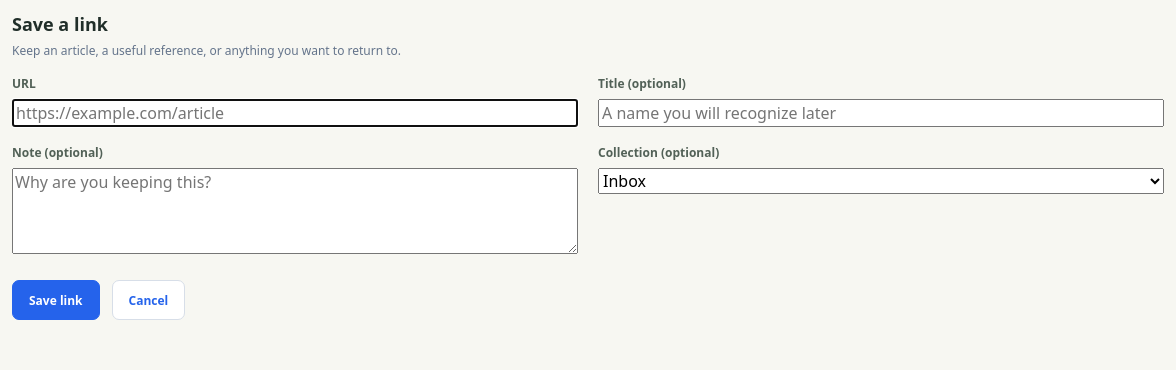
Test: rejects unsafe or invalid URLs:
Check: the button "Save link" is enabled, box [12,280,100,320]
In the field labelled "Title (optional)": (881, 113) [598,99,1164,127], type "A useful guide"
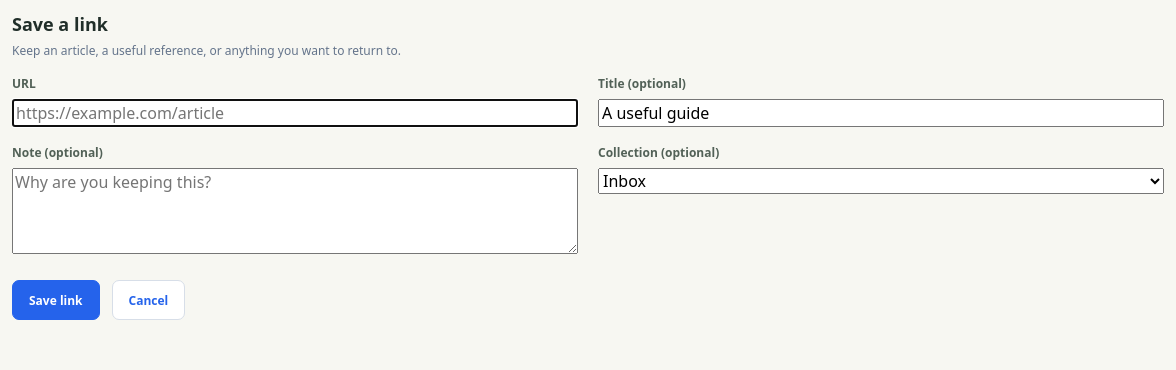
Click the button "Save link": (56, 300) [12,280,100,320]
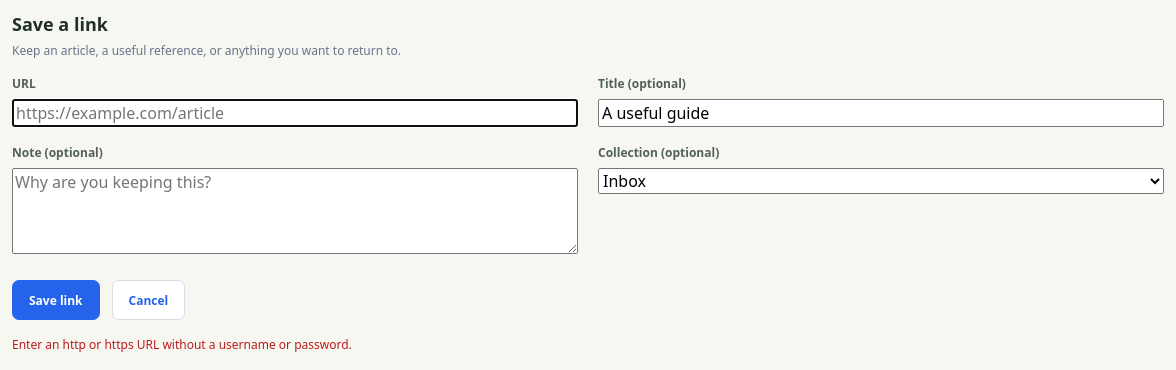
Check: the message shows "Enter an http or https URL", box [12,336,352,353]
